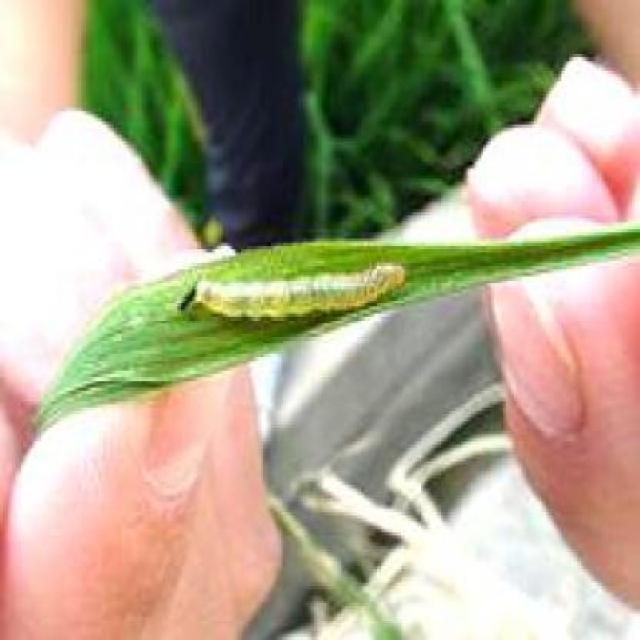leaf-folder: (176, 253, 402, 329)
